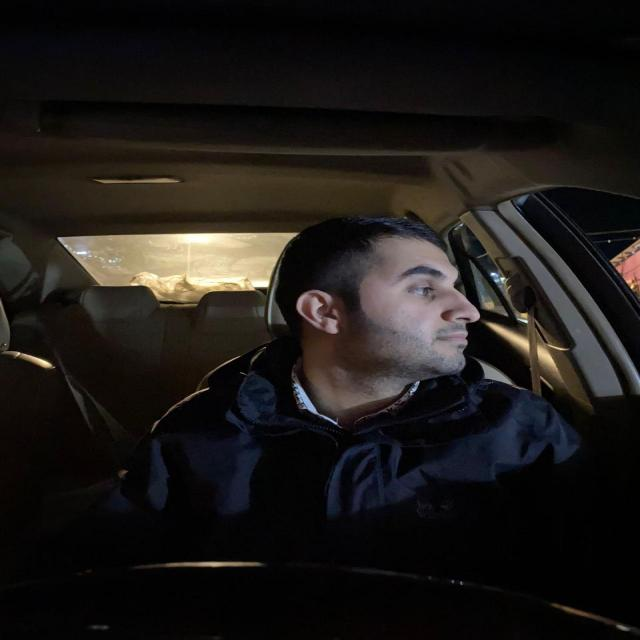LeftRight: (287, 215, 491, 382)
